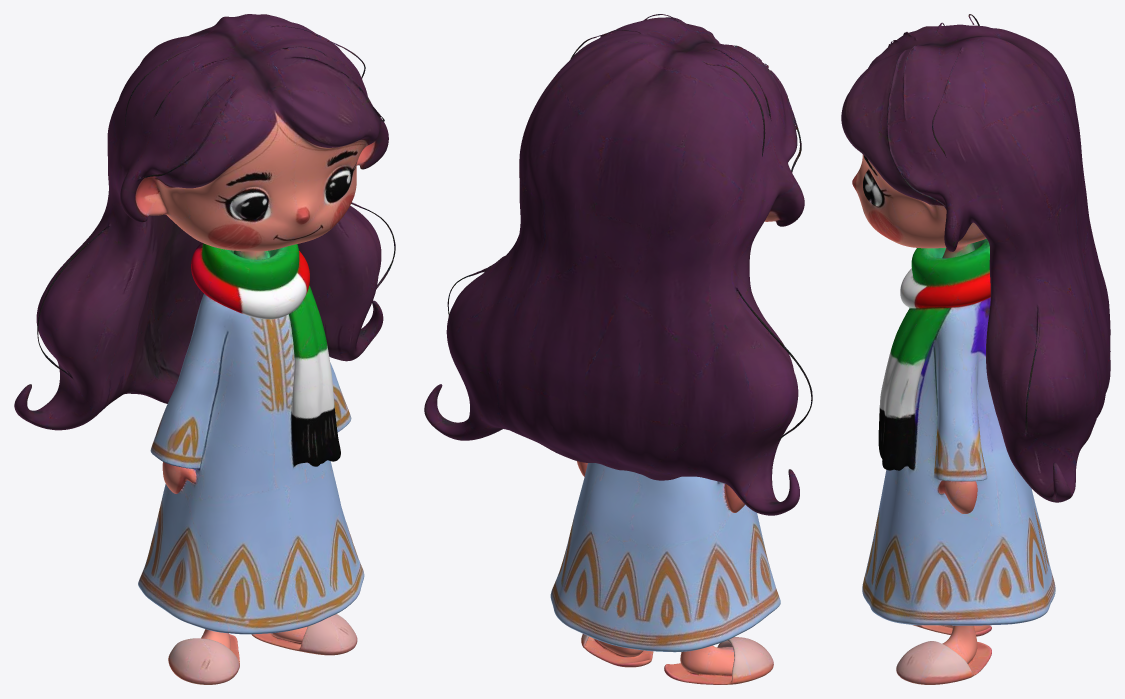
File: mira-uae-scarf.glb
The picture shows the model from 3 angles, left to right: view 1: azimuth 30°, elevation 25°; view 2: azimuth 150°, elevation 25°; view 3: azimuth 270°, elevation 25°; orthographic projection. The views are drawn at different scales.
Size of the model in its own units: 1.18 by 1.9 by 0.7629.
Materials: 1 (1 with a texture image).
